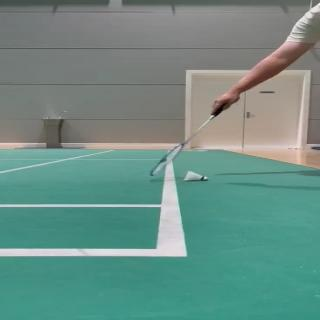Shuttle: (184, 171, 208, 181)
